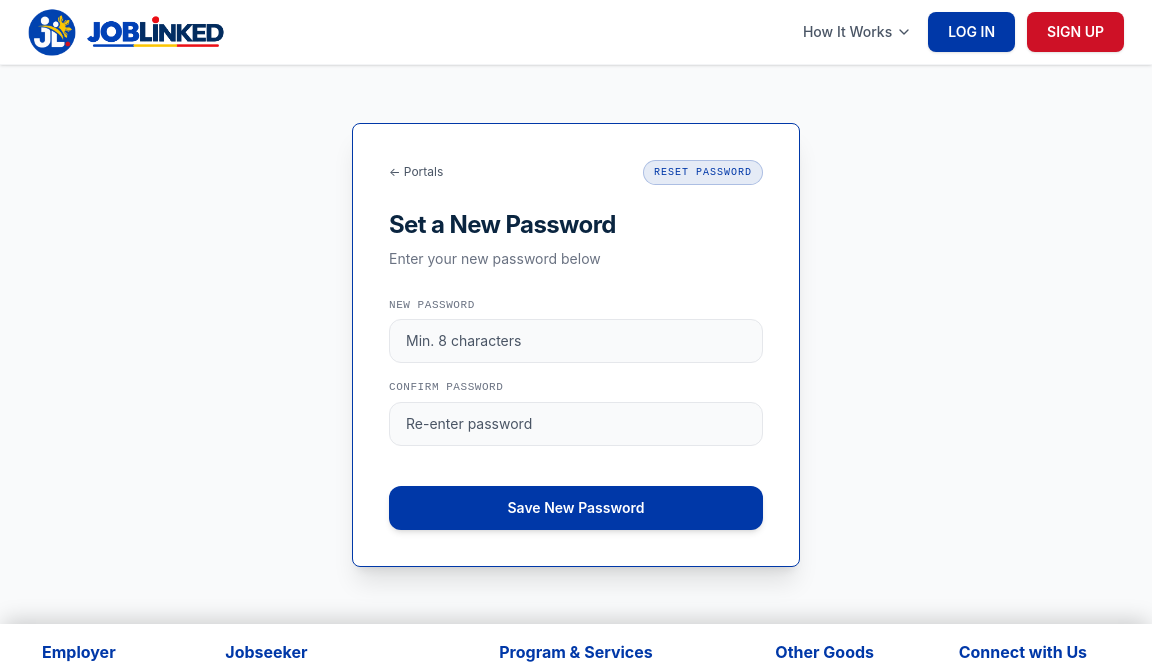
Test: ResetPassword › rejects mismatched passwords
Type "password123" into the password field labelled "New Password" at (576, 341), box top-left (389, 319), bottom-right (763, 363)
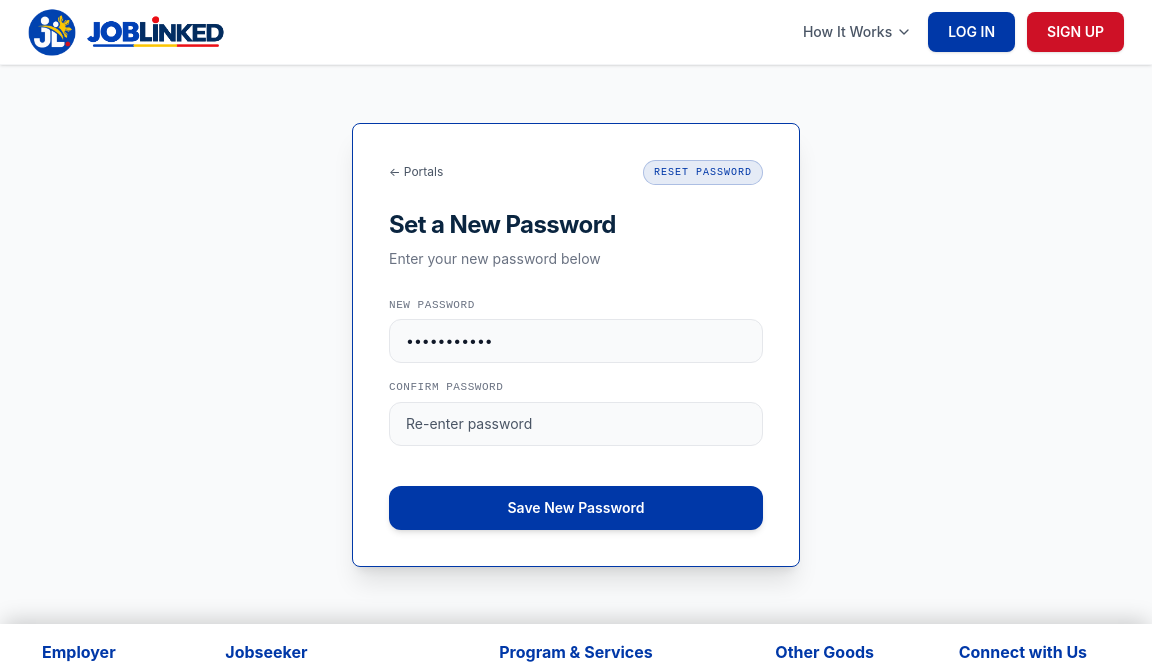
Type "password999" into the password field labelled "Confirm Password" at (576, 424), box top-left (389, 402), bottom-right (763, 446)
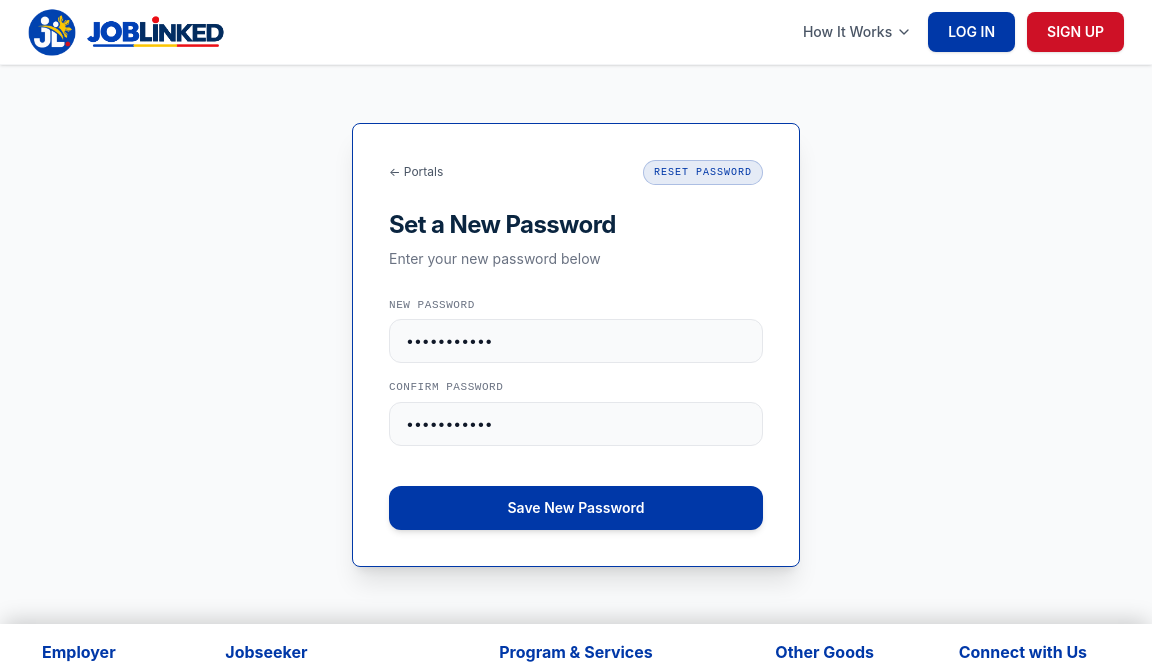
Click the button "Save New Password" at (576, 508), box top-left (389, 486), bottom-right (763, 530)
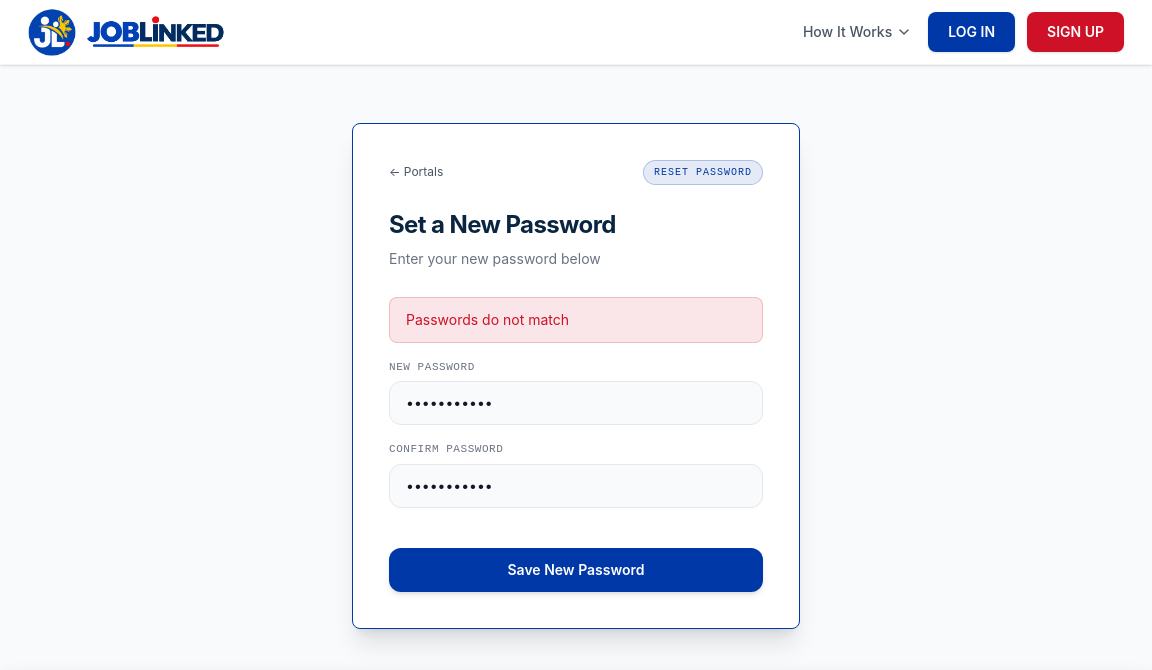
Check: the text "Passwords do not match" is shown, box top-left (389, 297), bottom-right (763, 343)
